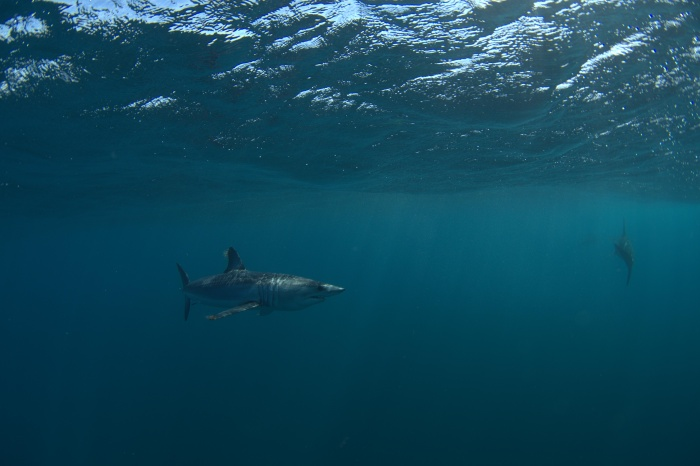Mako: (171, 243, 346, 328)
